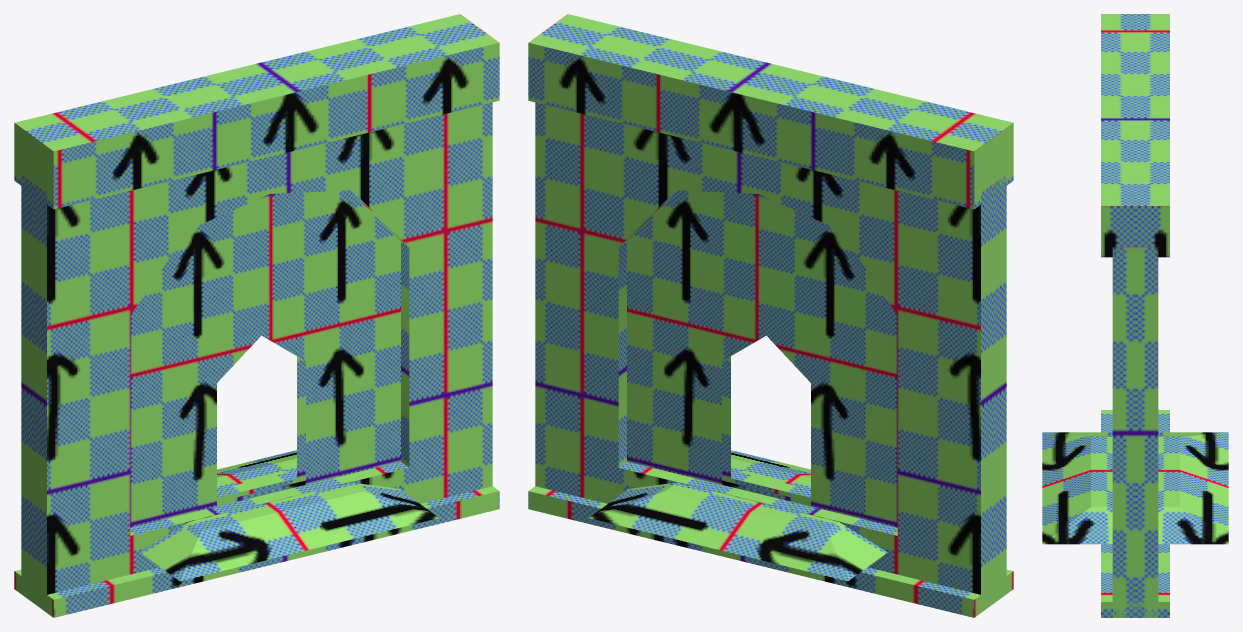
File: wall_with_door.obj
The picture shows the model from 3 angles, left to right: view 1: azimuth 30°, elevation 25°; view 2: azimuth 150°, elevation 25°; view 3: azimuth 270°, elevation 25°; orthographic projection. The views are drawn at different scales.
Visible parts, largest first — view 1: wall_with_door; view 2: wall_with_door; view 3: wall_with_door.
Part boxes in pixels (<box>): wall_with_door: <box>14,14,499,617</box>; wall_with_door: <box>528,14,1013,617</box>; wall_with_door: <box>1042,14,1228,617</box>.
Bounding box in the file's own units: 10 × 10 × 4.09.
